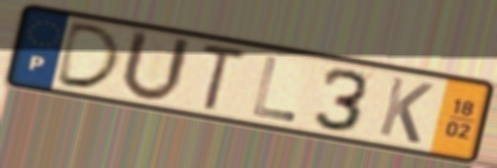3: (313, 66, 373, 134)
D: (51, 20, 124, 92)
K: (375, 74, 437, 147)
L: (249, 54, 299, 125)
T: (198, 40, 251, 113)
U: (116, 26, 195, 105)
